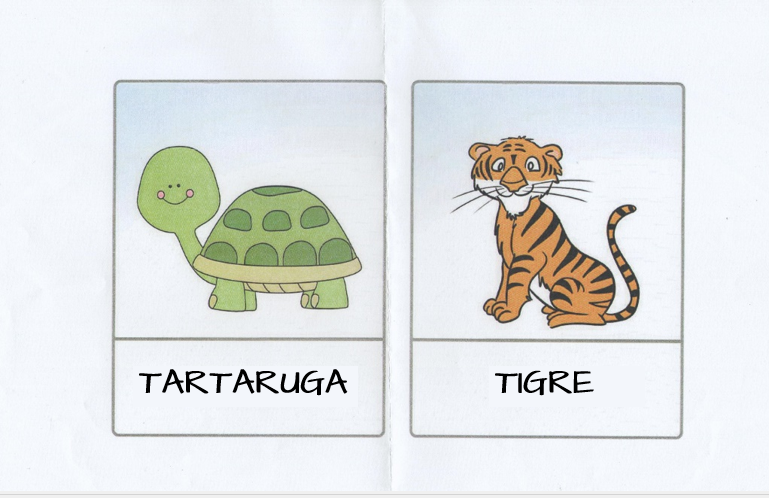tartaruga: (120, 89, 376, 414)
tigre: (419, 99, 682, 414)
